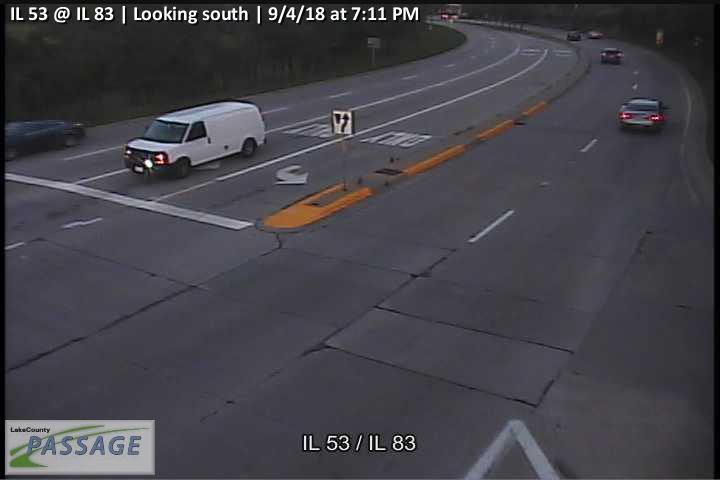SUV: (123, 101, 266, 179)
Sedan: (1, 117, 86, 162), (618, 97, 664, 128), (601, 48, 624, 63), (567, 31, 582, 40)
